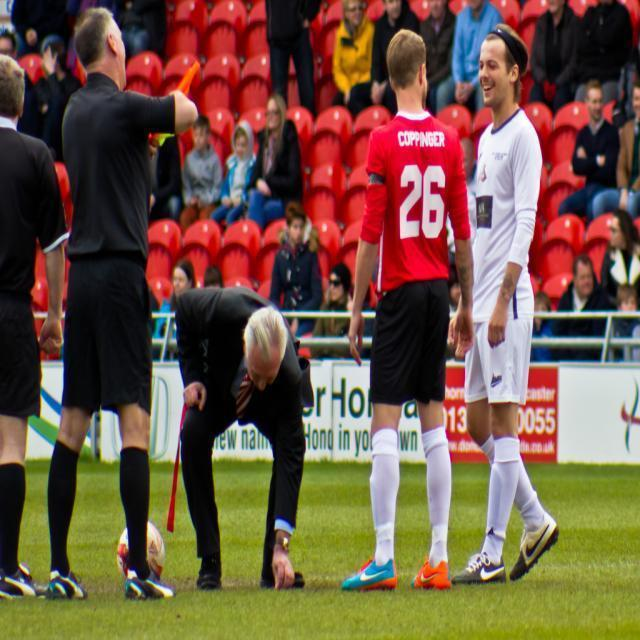ball: (113, 521, 166, 577)
